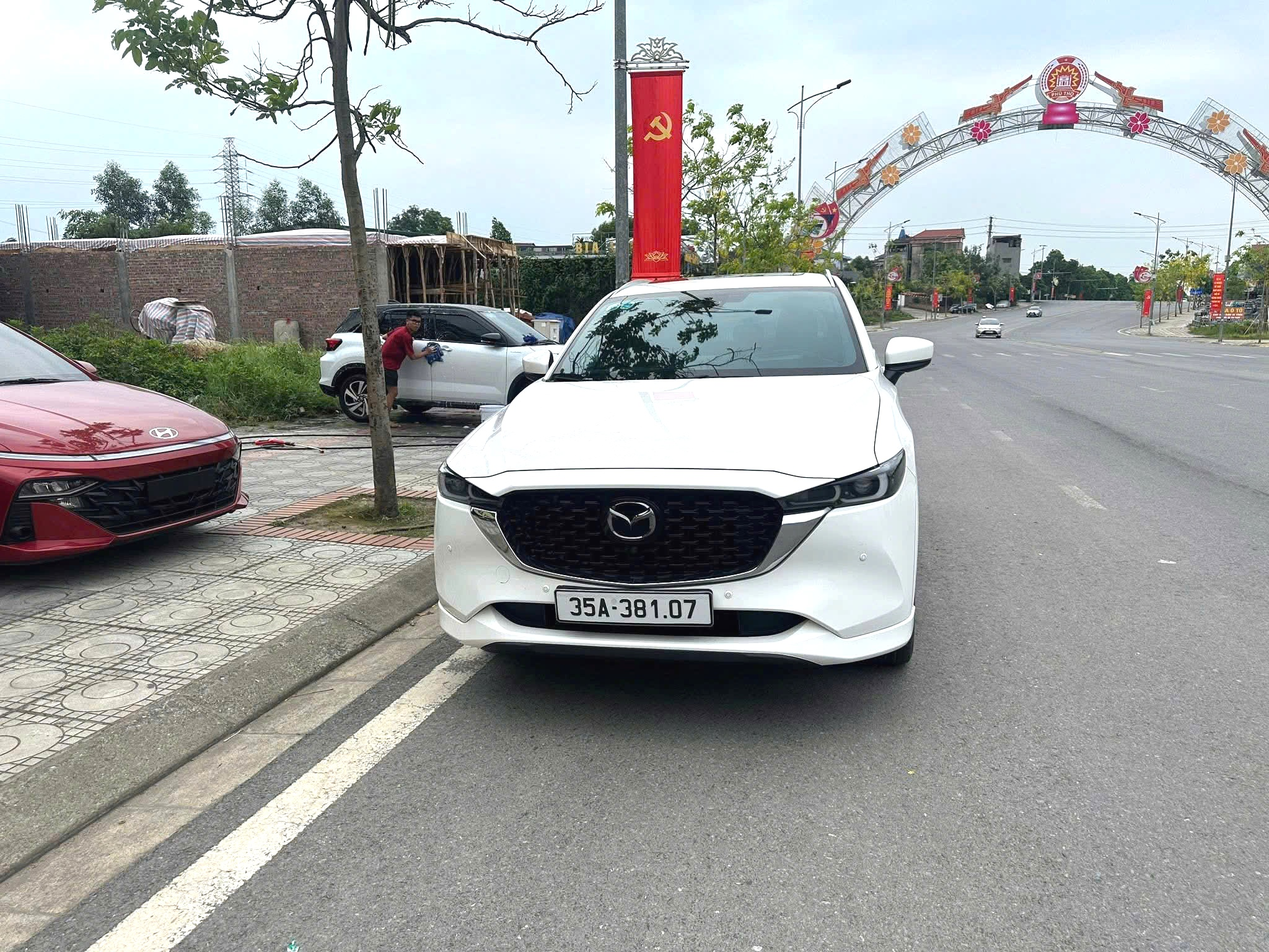Bien-so: (574, 608, 729, 655)
